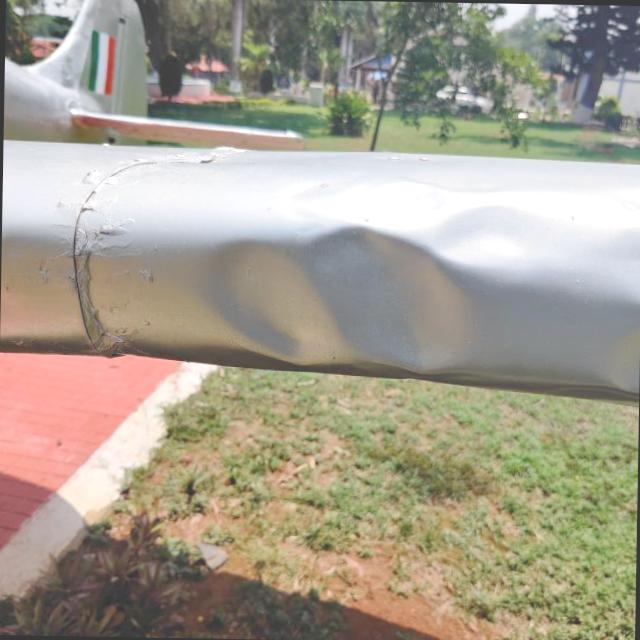dent: (172, 149, 575, 401), (566, 286, 640, 408)
